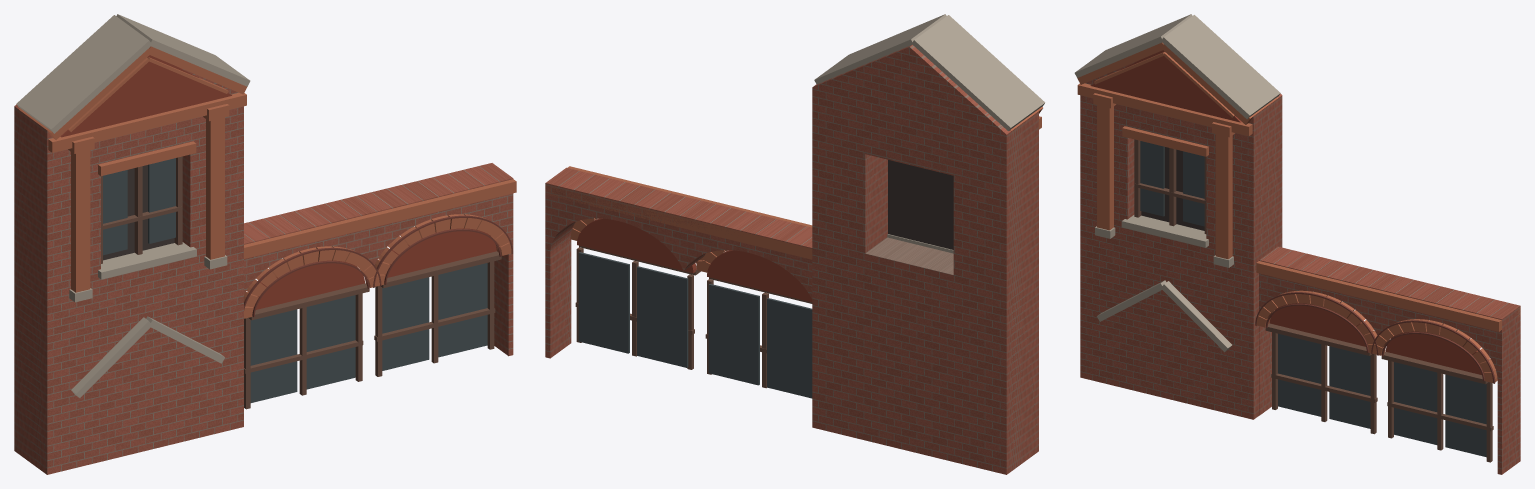
File: jingan-wujin-580-pediment-and-paired-window-heads-web.glb
3 renders of one model, left to right at view 1: azimuth 30°, elevation 25°; view 2: azimuth 150°, elevation 25°; view 3: azimuth 330°, elevation 25°, orthographic. The views are drawn at different scales.
Visible parts, largest first — view 1: 武进路580号住宅临街小山花窗与双券窗楣; view 2: 武进路580号住宅临街小山花窗与双券窗楣; view 3: 武进路580号住宅临街小山花窗与双券窗楣.
Part boxes in pixels (x1,y1,x2,y2): 武进路580号住宅临街小山花窗与双券窗楣: (14,14,516,474); 武进路580号住宅临街小山花窗与双券窗楣: (545,14,1045,474); 武进路580号住宅临街小山花窗与双券窗楣: (1074,14,1520,474).
Bounding box in the file's own units: 6.26 × 5.23 × 0.891.
Materials: 8 (1 with a texture image).
